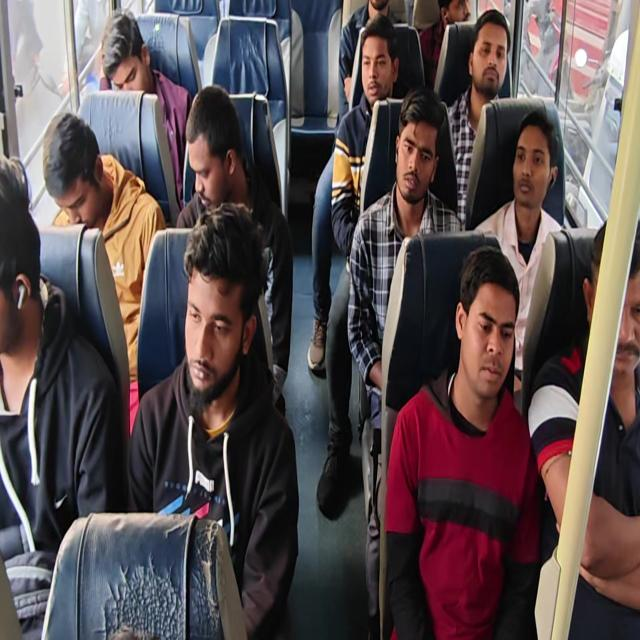person: (175, 227, 247, 398), (575, 227, 640, 406), (0, 159, 45, 364), (181, 88, 253, 214), (41, 116, 112, 234), (453, 261, 510, 403), (508, 119, 562, 215), (99, 16, 154, 109), (396, 105, 432, 204), (468, 31, 507, 97), (438, 0, 480, 43), (365, 36, 392, 98), (363, 0, 387, 20)
